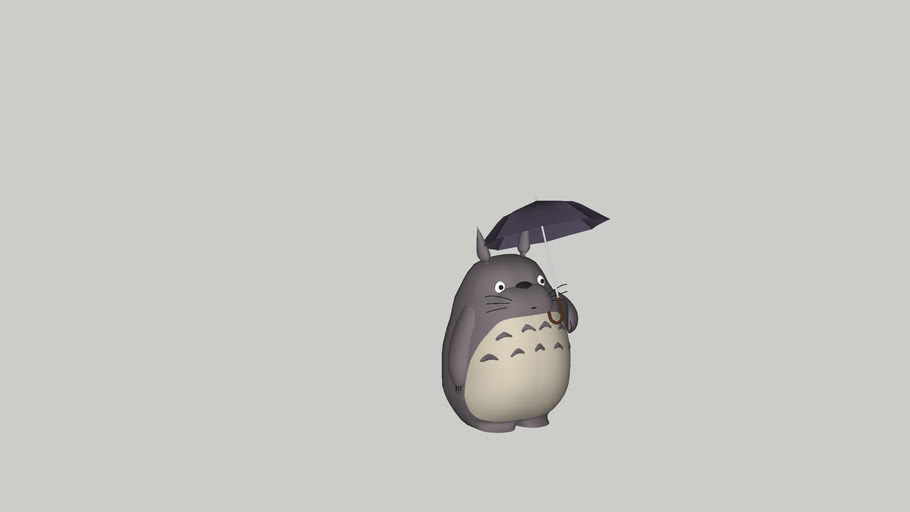Totoro: (434, 224, 581, 438)
